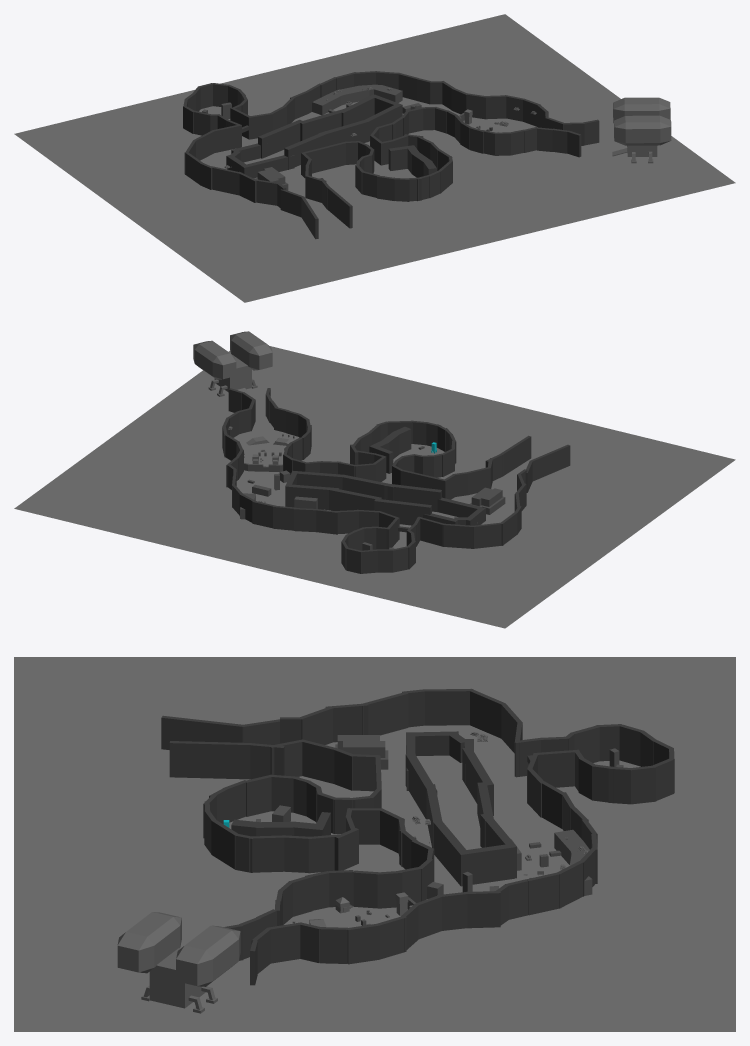
The model's file is Blockout Level 1 (GreyScale).fbx.
The picture shows the model from 3 angles, top to bottom: view 1: azimuth 30°, elevation 25°; view 2: azimuth 150°, elevation 25°; view 3: azimuth 270°, elevation 25°; orthographic projection. The views are drawn at different scales.
Parts seen in each view (by area): view 1: Plane, Spaceship, Cube.143, Cube.006, Cube.140, Cube.139, Cube, Cube.092, Cube.087, Cube.141, Cube.138, Cube.142 (+6 smaller); view 2: Plane, Spaceship, Cube.143, Cube.141, Cube.139, Cube.097, Cube.140, Cube.138, Cube.088, Cube, Cube.089, Cube.137 (+8 smaller); view 3: Plane, Spaceship, Cube, Cube.097, Cube.090, Cube.147, Cube.092, Cube.137, Cube.071, Cube.061, Cube.058, Cube.023 (+50 smaller).
Part boxes in pixels (x1,y1,x2,y2): Plane: (14,14,735,302); Spaceship: (612,97,671,163); Cube.143: (258,119,302,158); Cube.006: (302,142,345,173); Cube.140: (318,120,369,146); Cube.139: (299,109,350,141); Cube: (326,186,352,228); Cube.092: (211,166,241,195); Cube.087: (213,124,241,152); Cube.141: (284,131,327,169); Cube.138: (339,94,374,126); Cube.142: (241,155,294,178); Plane: (14,346,735,628); Spaceship: (193,331,272,397); Cube.143: (374,499,431,525); Cube.141: (384,484,441,511); Cube.139: (329,489,381,510); Cube.097: (531,444,570,481); Cube.140: (342,475,395,500); Cube.138: (285,484,339,509); Cube.088: (442,523,473,548); Cube: (500,435,531,476); Cube.089: (473,522,503,548); Cube.137: (292,470,344,489); Plane: (14,657,735,1031); Spaceship: (117,912,240,1013); Cube: (169,741,251,779); Cube.097: (161,715,243,749); Cube.090: (424,689,473,725); Cube.147: (463,843,514,884); Cube.092: (360,692,408,735); Cube.137: (433,820,469,886); Cube.071: (537,749,579,787); Cube.061: (526,872,561,915); Cube.058: (467,891,500,928); Cube.023: (249,835,284,872).
Bounding box in the file's own units: 1346 × 125 × 1096.
